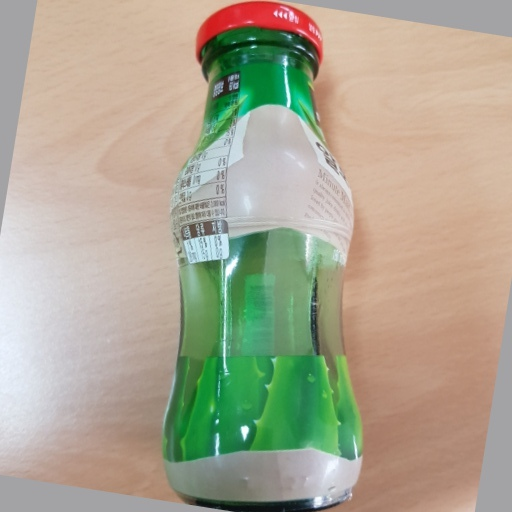Glass_4: (167, 5, 369, 512)
